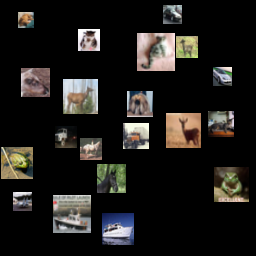airplane: (91, 15, 126, 50), (54, 109, 73, 128)
automobile: (14, 122, 46, 154), (88, 138, 117, 167), (179, 27, 201, 49)
bird: (124, 99, 153, 128), (110, 54, 129, 73)
cat: (137, 39, 172, 74), (56, 152, 82, 178), (114, 182, 136, 204)
deer: (212, 99, 247, 134), (131, 142, 157, 168)
dog: (179, 78, 208, 107)
frog: (13, 29, 51, 67)
ship: (32, 183, 64, 215), (212, 206, 241, 235), (83, 178, 112, 207), (46, 76, 68, 98)
